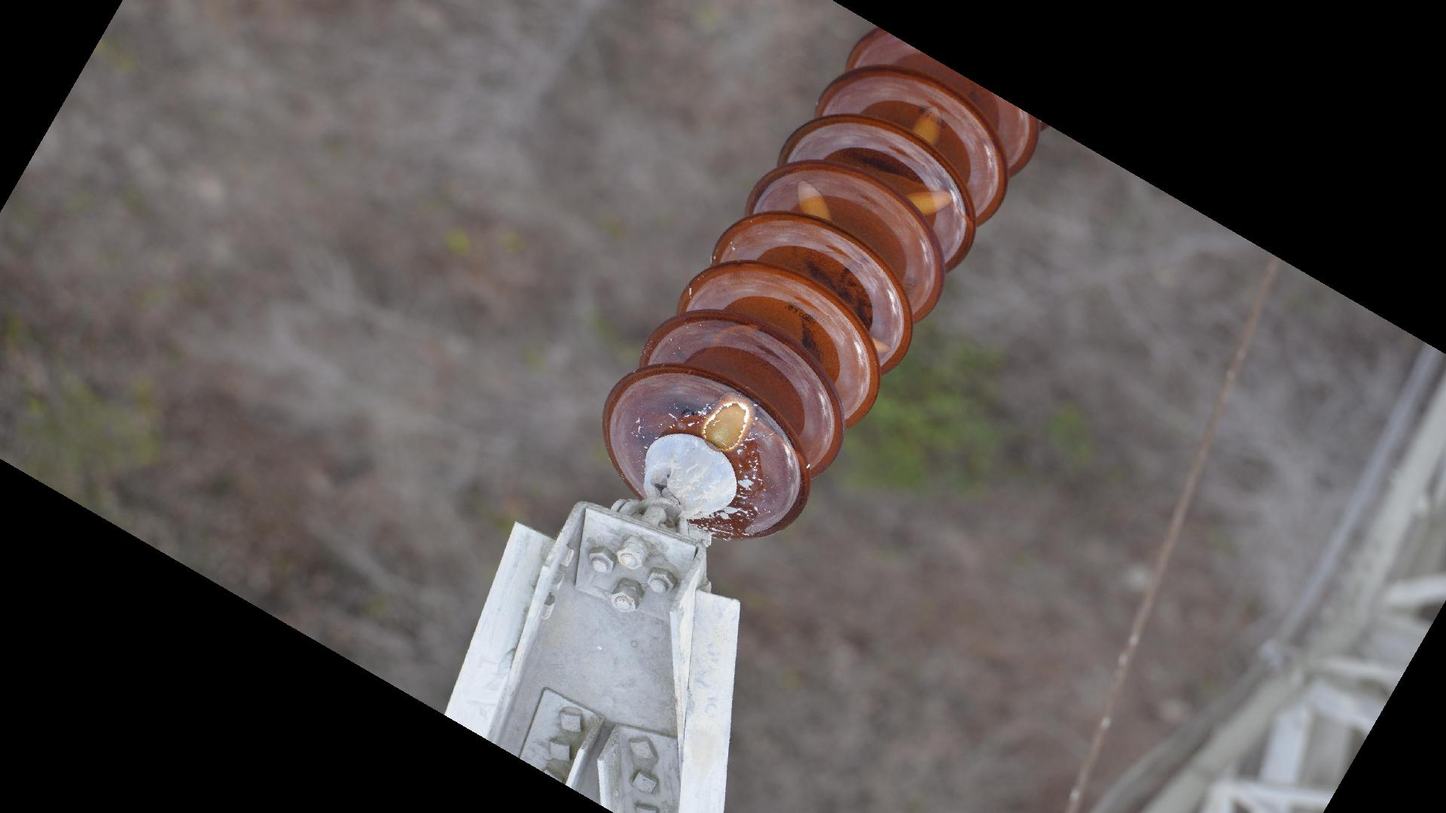insulator: (594, 23, 1051, 546)
insulator_flashover: (700, 392, 758, 455), (792, 177, 836, 224), (904, 185, 956, 218), (909, 104, 946, 149)
